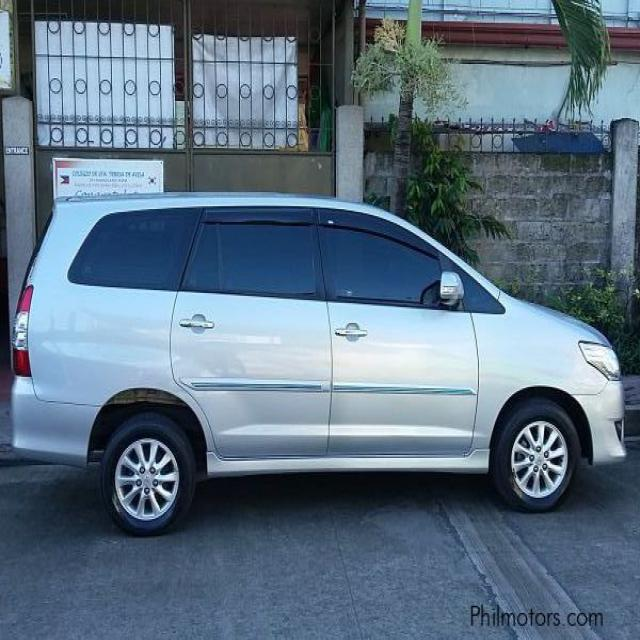light_vehicle: (9, 191, 628, 537)
